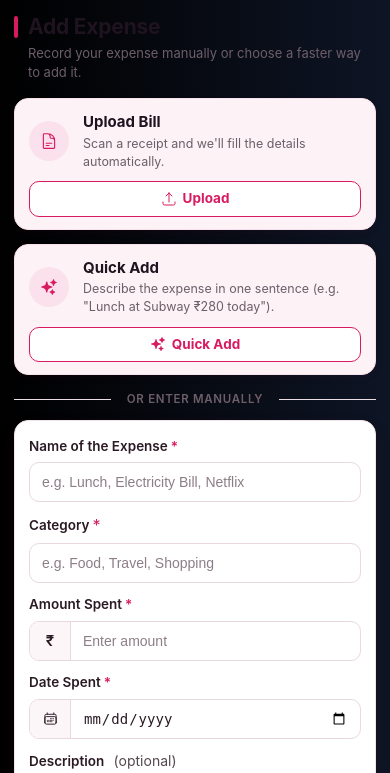
Test: AddExpense -- ML-003-T06 'Save merchant rule' shortcut on the abstention banner › fills the category AND saves a merchant rule for this exact merchant/category in one click
Step 1. Type "Some New Merchant" into the field labelled "Name of the Expense*" → coordinates (195, 482), box [29,462,361,502]
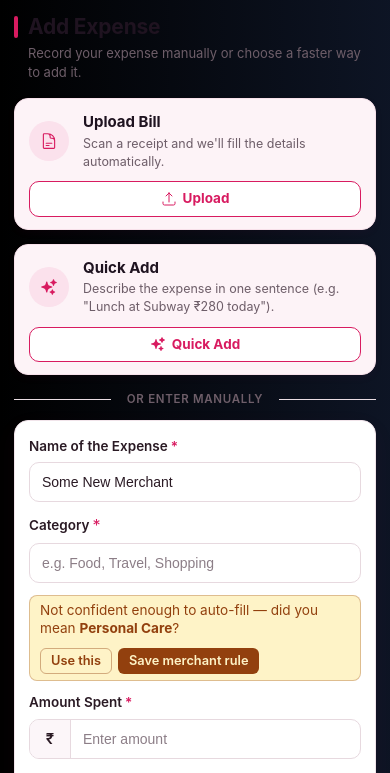
Step 2. Click the button "Save merchant rule" → coordinates (189, 661), box [118,648,260,674]
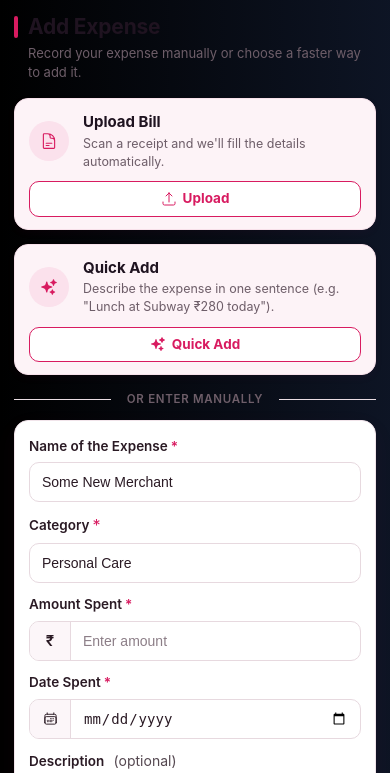
Expected: the field labelled "Category" holds "Personal Care", [29,544,361,584]
